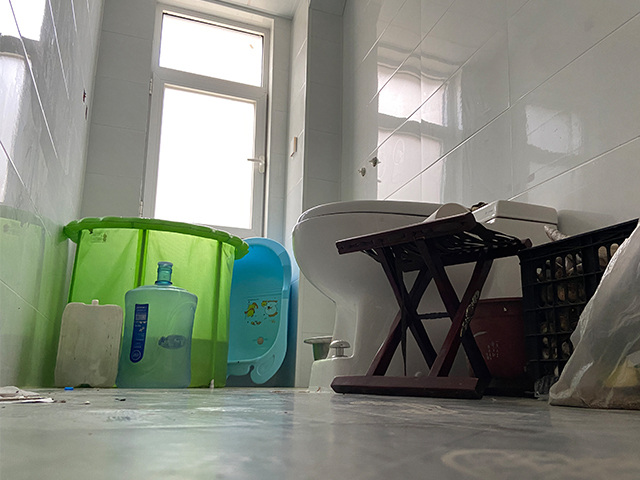closestool: (291, 201, 560, 393)
stool: (329, 212, 534, 400)
